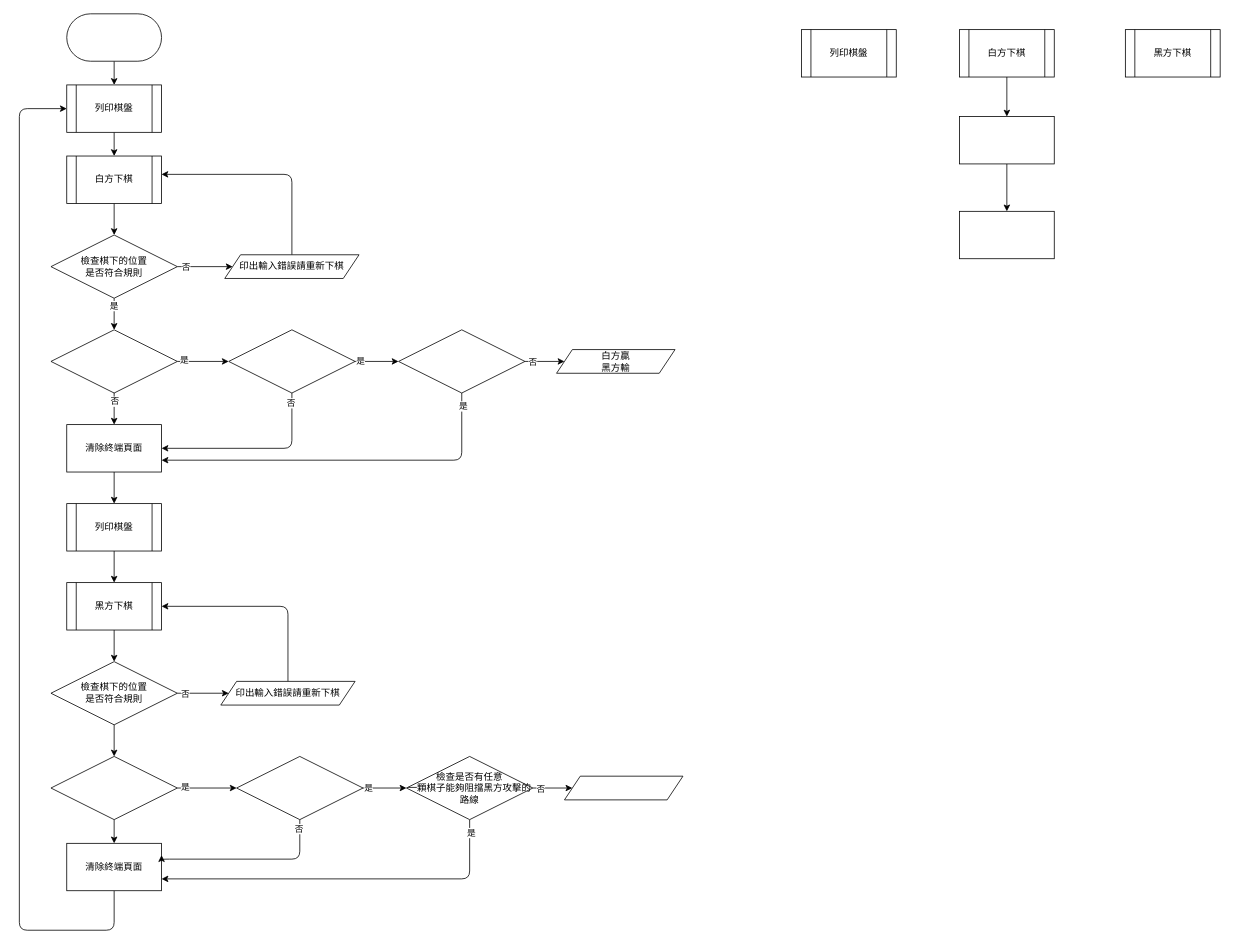
Image size: 1234x950. Some labels were removed from this diagram. Each missing label, with the centre of its shape:
檢查是否有任意 一顆棋子能夠阻擋白方攻擊的路線: point 461,361
檢查是否白王移動的 九宮格內都會受到攻擊: point 299,788
檢查是否黑王移動的 九宮格內都會受到攻擊: point 291,361
檢查白王 是否受到攻擊: point 113,788
檢查黑王 是否受到攻擊: point 113,361
白方輸 黑方贏: point 623,787
輸入下棋的位置 格式： [棋子名稱][是否吃子][X軸][Y軸]: point 1006,140
開始: point 114,37
